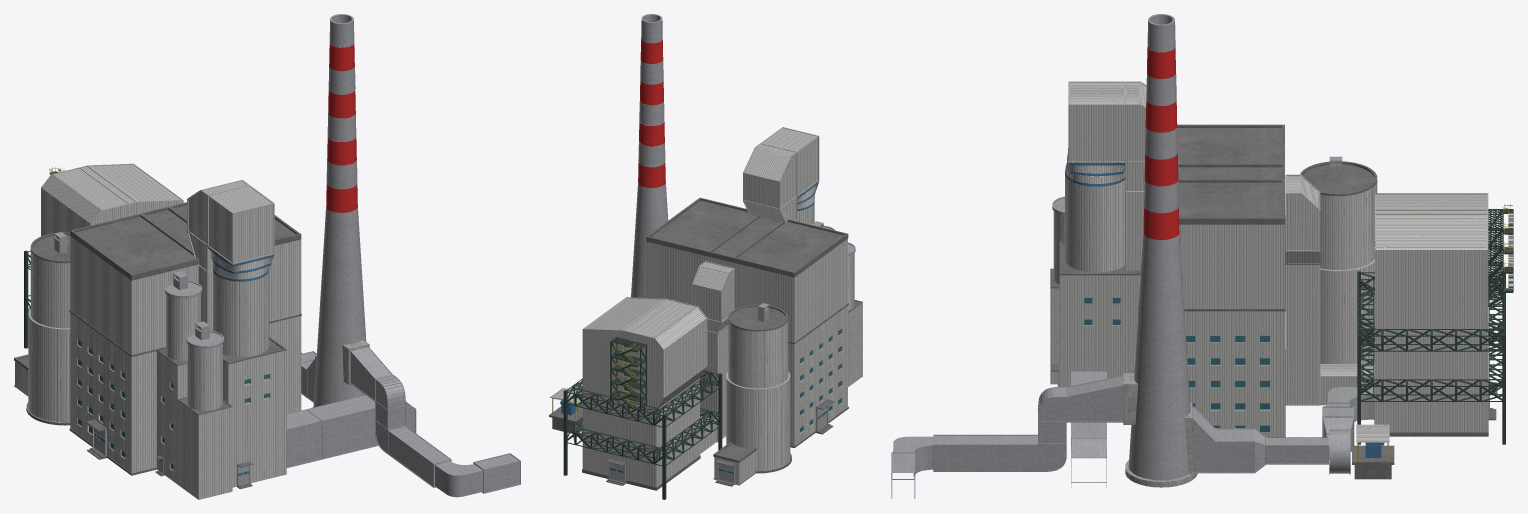
The model's file is 脱硫脱硝.glb.
3 renders of one model, left to right at view 1: azimuth 30°, elevation 25°; view 2: azimuth 150°, elevation 25°; view 3: azimuth 270°, elevation 25°, orthographic. The views are drawn at different scales.
Visible parts, largest first — view 1: 脱硫脱硝00, 脱硫脱硝08, 脱硫脱硝09, 脱硫脱硝05, 脱硫脱硝06, 脱硫脱硝03; view 2: 脱硫脱硝00, 脱硫脱硝09, 脱硫脱硝03, 脱硫脱硝08, 脱硫脱硝05, 脱硫脱硝06, 脱硫脱硝02; view 3: 脱硫脱硝00, 脱硫脱硝08, 脱硫脱硝09, 脱硫脱硝03, 脱硫脱硝05, 脱硫脱硝07, 脱硫脱硝06, 脱硫脱硝04.
Boxes of the visible parts, box(x1,y1,x2,y2) form: 脱硫脱硝00: box(15, 163, 301, 499); 脱硫脱硝08: box(54, 14, 520, 497); 脱硫脱硝09: box(14, 202, 301, 489); 脱硫脱硝05: box(326, 43, 357, 212); 脱硫脱硝06: box(78, 339, 268, 475); 脱硫脱硝03: box(24, 171, 119, 348); 脱硫脱硝00: box(549, 127, 862, 487); 脱硫脱硝09: box(549, 197, 862, 490); 脱硫脱硝03: box(563, 337, 722, 499); 脱硫脱硝08: box(570, 14, 855, 483); 脱硫脱硝05: box(638, 39, 665, 187); 脱硫脱硝06: box(610, 310, 841, 473); 脱硫脱硝02: box(552, 343, 640, 419); 脱硫脱硝00: box(1050, 81, 1488, 442); 脱硫脱硝08: box(891, 14, 1489, 498); 脱硫脱硝09: box(1050, 124, 1497, 479); 脱硫脱硝03: box(1357, 209, 1513, 444); 脱硫脱硝05: box(1143, 47, 1179, 239); 脱硫脱硝07: box(1123, 373, 1197, 487); 脱硫脱硝06: box(1084, 298, 1269, 431); 脱硫脱硝04: box(1065, 148, 1384, 457).
Size of the model in its own units: 52.4 by 68.22 by 84.89.
9 materials, 8 textured.
